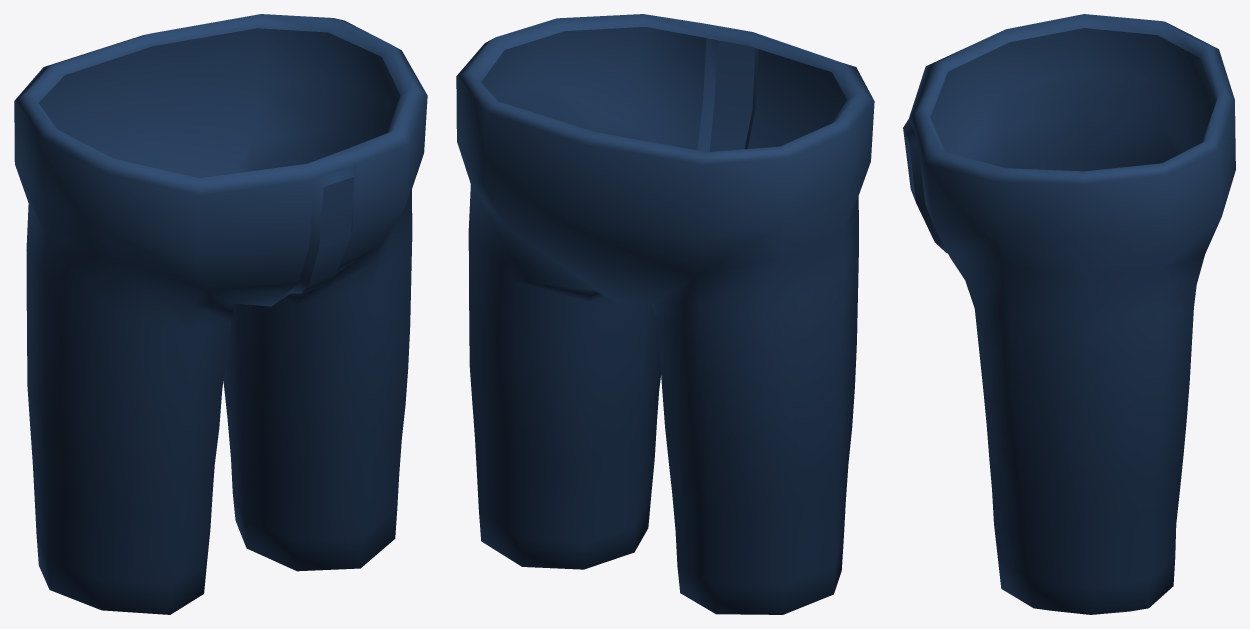
Rendered from bottom54.fbx.
3 renders of one model, left to right at view 1: azimuth 30°, elevation 25°; view 2: azimuth 150°, elevation 25°; view 3: azimuth 270°, elevation 25°, orthographic. The views are drawn at different scales.
Visible parts, largest first — view 1: Bottom_54; view 2: Bottom_54; view 3: Bottom_54.
Boxes of the visible parts, x1=… form: Bottom_54: x1=14, y1=14, x2=427, y2=614; Bottom_54: x1=456, y1=14, x2=874, y2=614; Bottom_54: x1=903, y1=14, x2=1235, y2=614.
Bounding box in the file's own units: 37.99 × 48.68 × 31.97.
